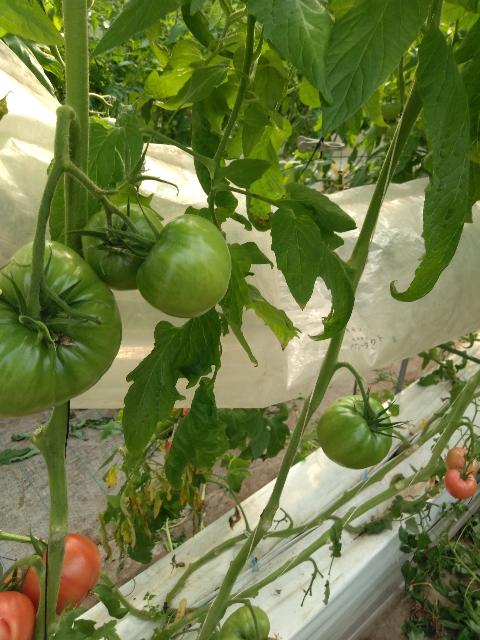b_fully_ripened: (20, 532, 101, 618), (0, 591, 37, 640)
b_green: (0, 239, 123, 418), (135, 214, 232, 318), (80, 202, 164, 292), (317, 395, 393, 470), (218, 605, 270, 640)
b_half_ripened: (444, 469, 476, 499), (445, 447, 478, 475)
